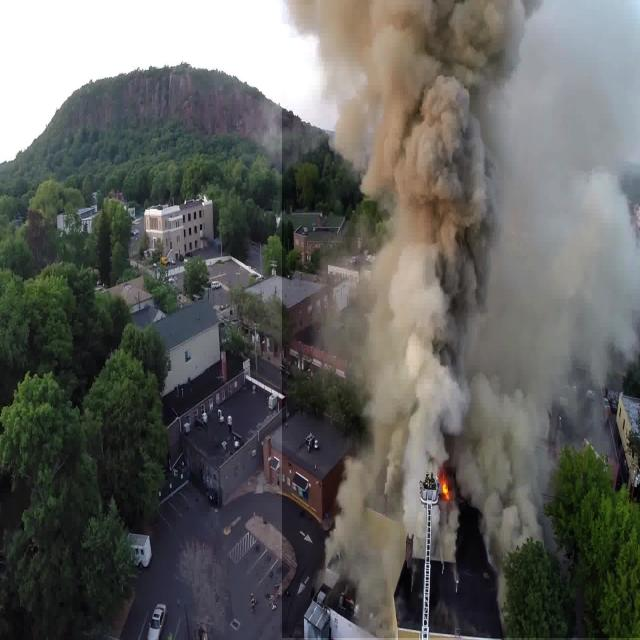Fire: (437, 467, 456, 501)
Smoke: (282, 0, 640, 638)
